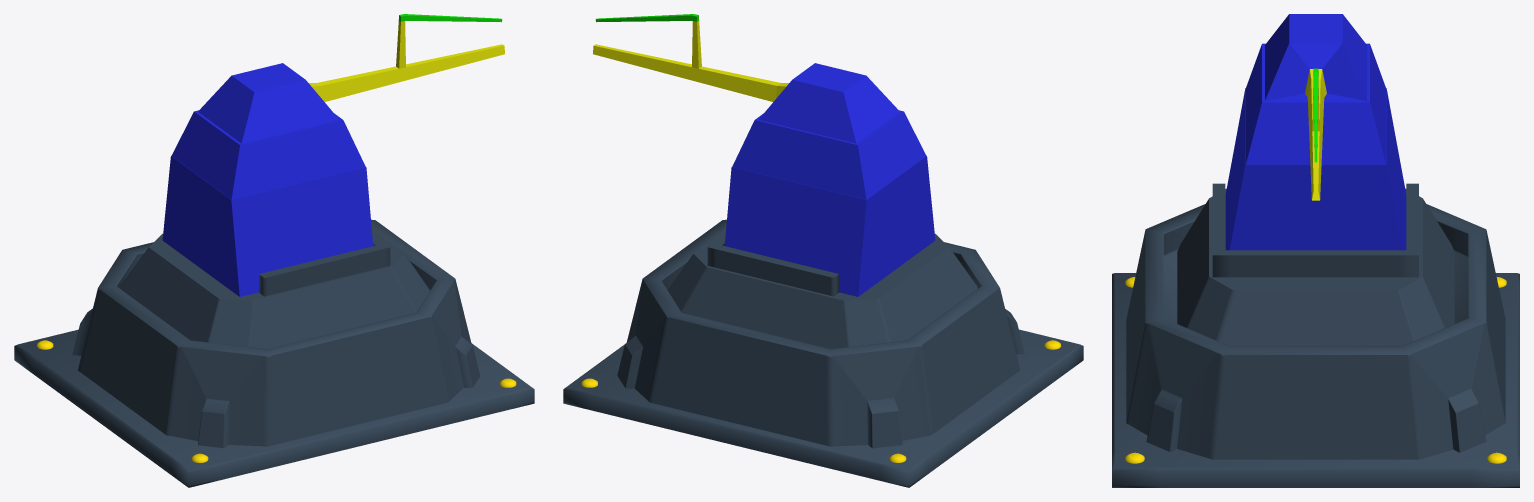
The model's file is Ice Lazer.fbx.
3 views of the same model, side by side, from view 1: azimuth 30°, elevation 25°; view 2: azimuth 150°, elevation 25°; view 3: azimuth 270°, elevation 25° (orthographic). The views are drawn at different scales.
Parts seen in each view (by area): view 1: Stand, Cube; view 2: Stand, Cube; view 3: Stand, Cube.
Boxes of the visible parts, box(x1,y1,x2,y2) form: Stand: box(14, 219, 534, 487); Cube: box(162, 14, 504, 296); Stand: box(563, 219, 1083, 487); Cube: box(593, 14, 935, 296); Stand: box(1112, 183, 1519, 487); Cube: box(1225, 14, 1406, 250).
Size of the model in its own units: 393 by 313 by 295.
